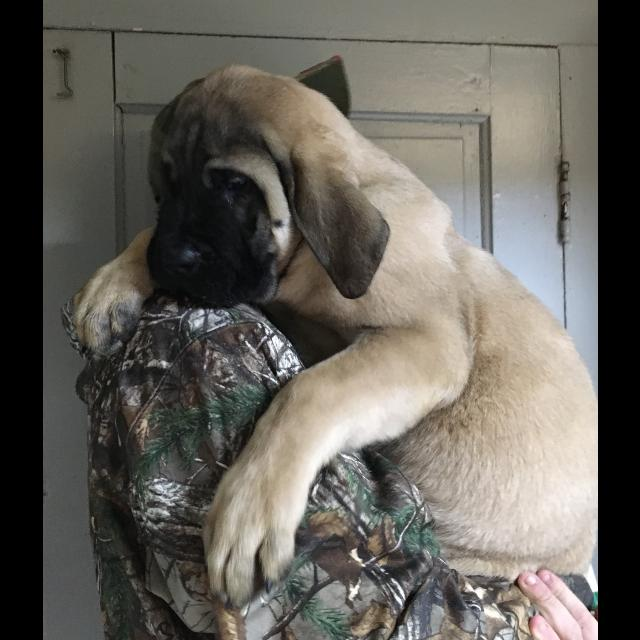mastiff: (71, 64, 598, 617)
